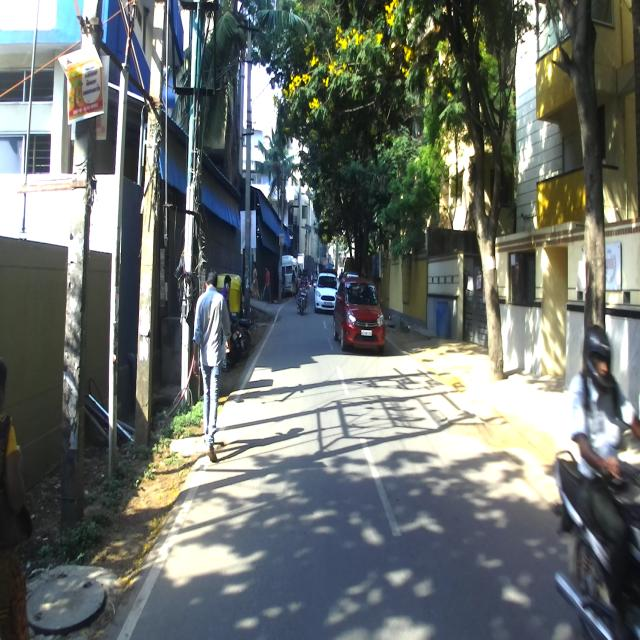car ahead at: (336, 271, 385, 356)
electric pole ahead at: (60, 0, 108, 531), (133, 0, 174, 449)
person ahead at: (189, 271, 230, 461)
